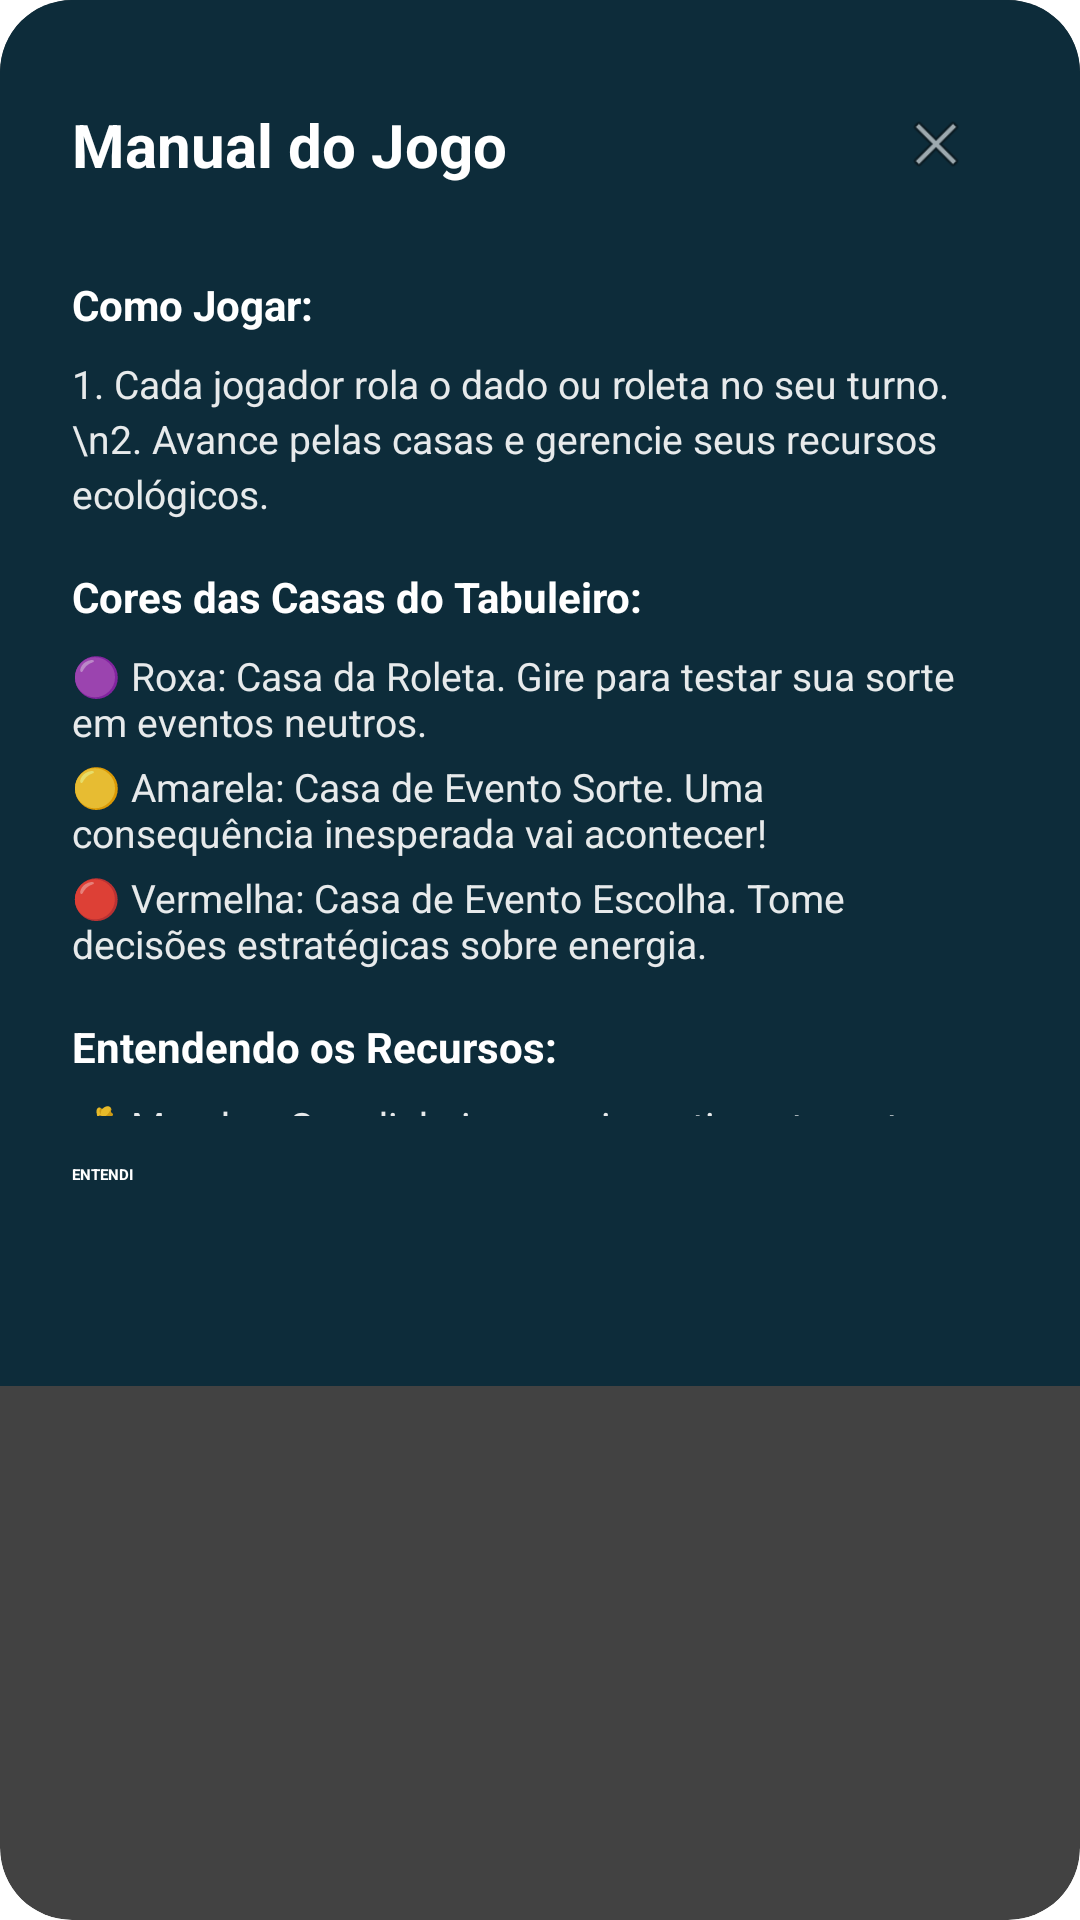

Where icons sit on this 1080×1920 app screen, as (x1, y1, x2, y2):
Fechar caixa de diálogo: (916, 124, 956, 164)
